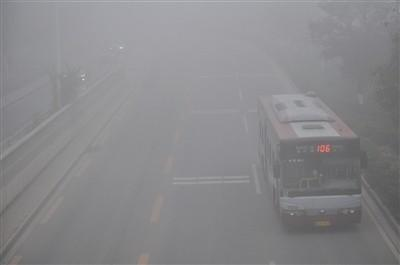bus: (255, 89, 369, 233)
car: (63, 64, 91, 92), (105, 37, 127, 59)
